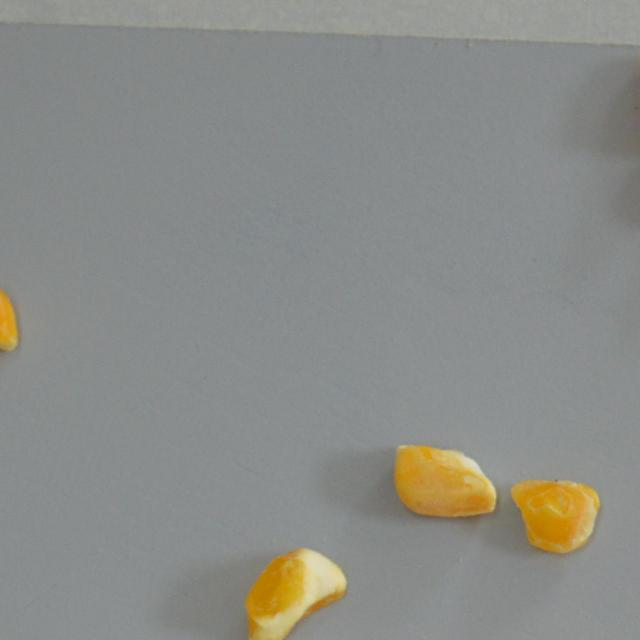estandar: (240, 543, 347, 640)
pelicula: (390, 415, 498, 538), (506, 443, 606, 566), (0, 262, 18, 360)
